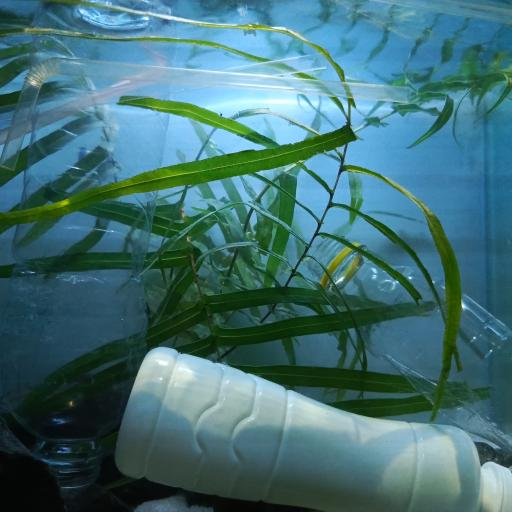plastic_bottle: (0, 2, 177, 488), (113, 347, 512, 512), (310, 228, 512, 446)
plastic_straw: (0, 52, 413, 173), (0, 61, 172, 141)
